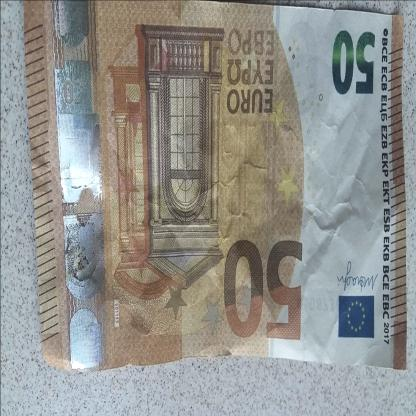euro_banknote: (25, 2, 407, 374)
